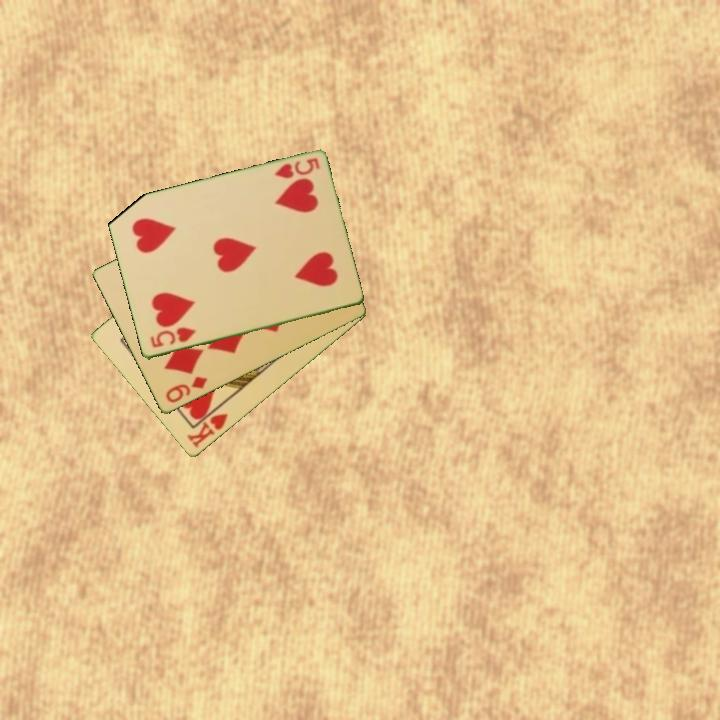5h: (271, 154, 322, 182), (147, 324, 198, 351)
9d: (162, 373, 210, 406)
Kh: (183, 401, 231, 451)
